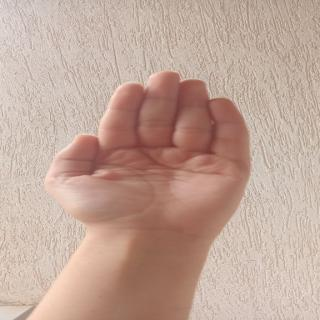SEEN: (48, 67, 267, 229)
